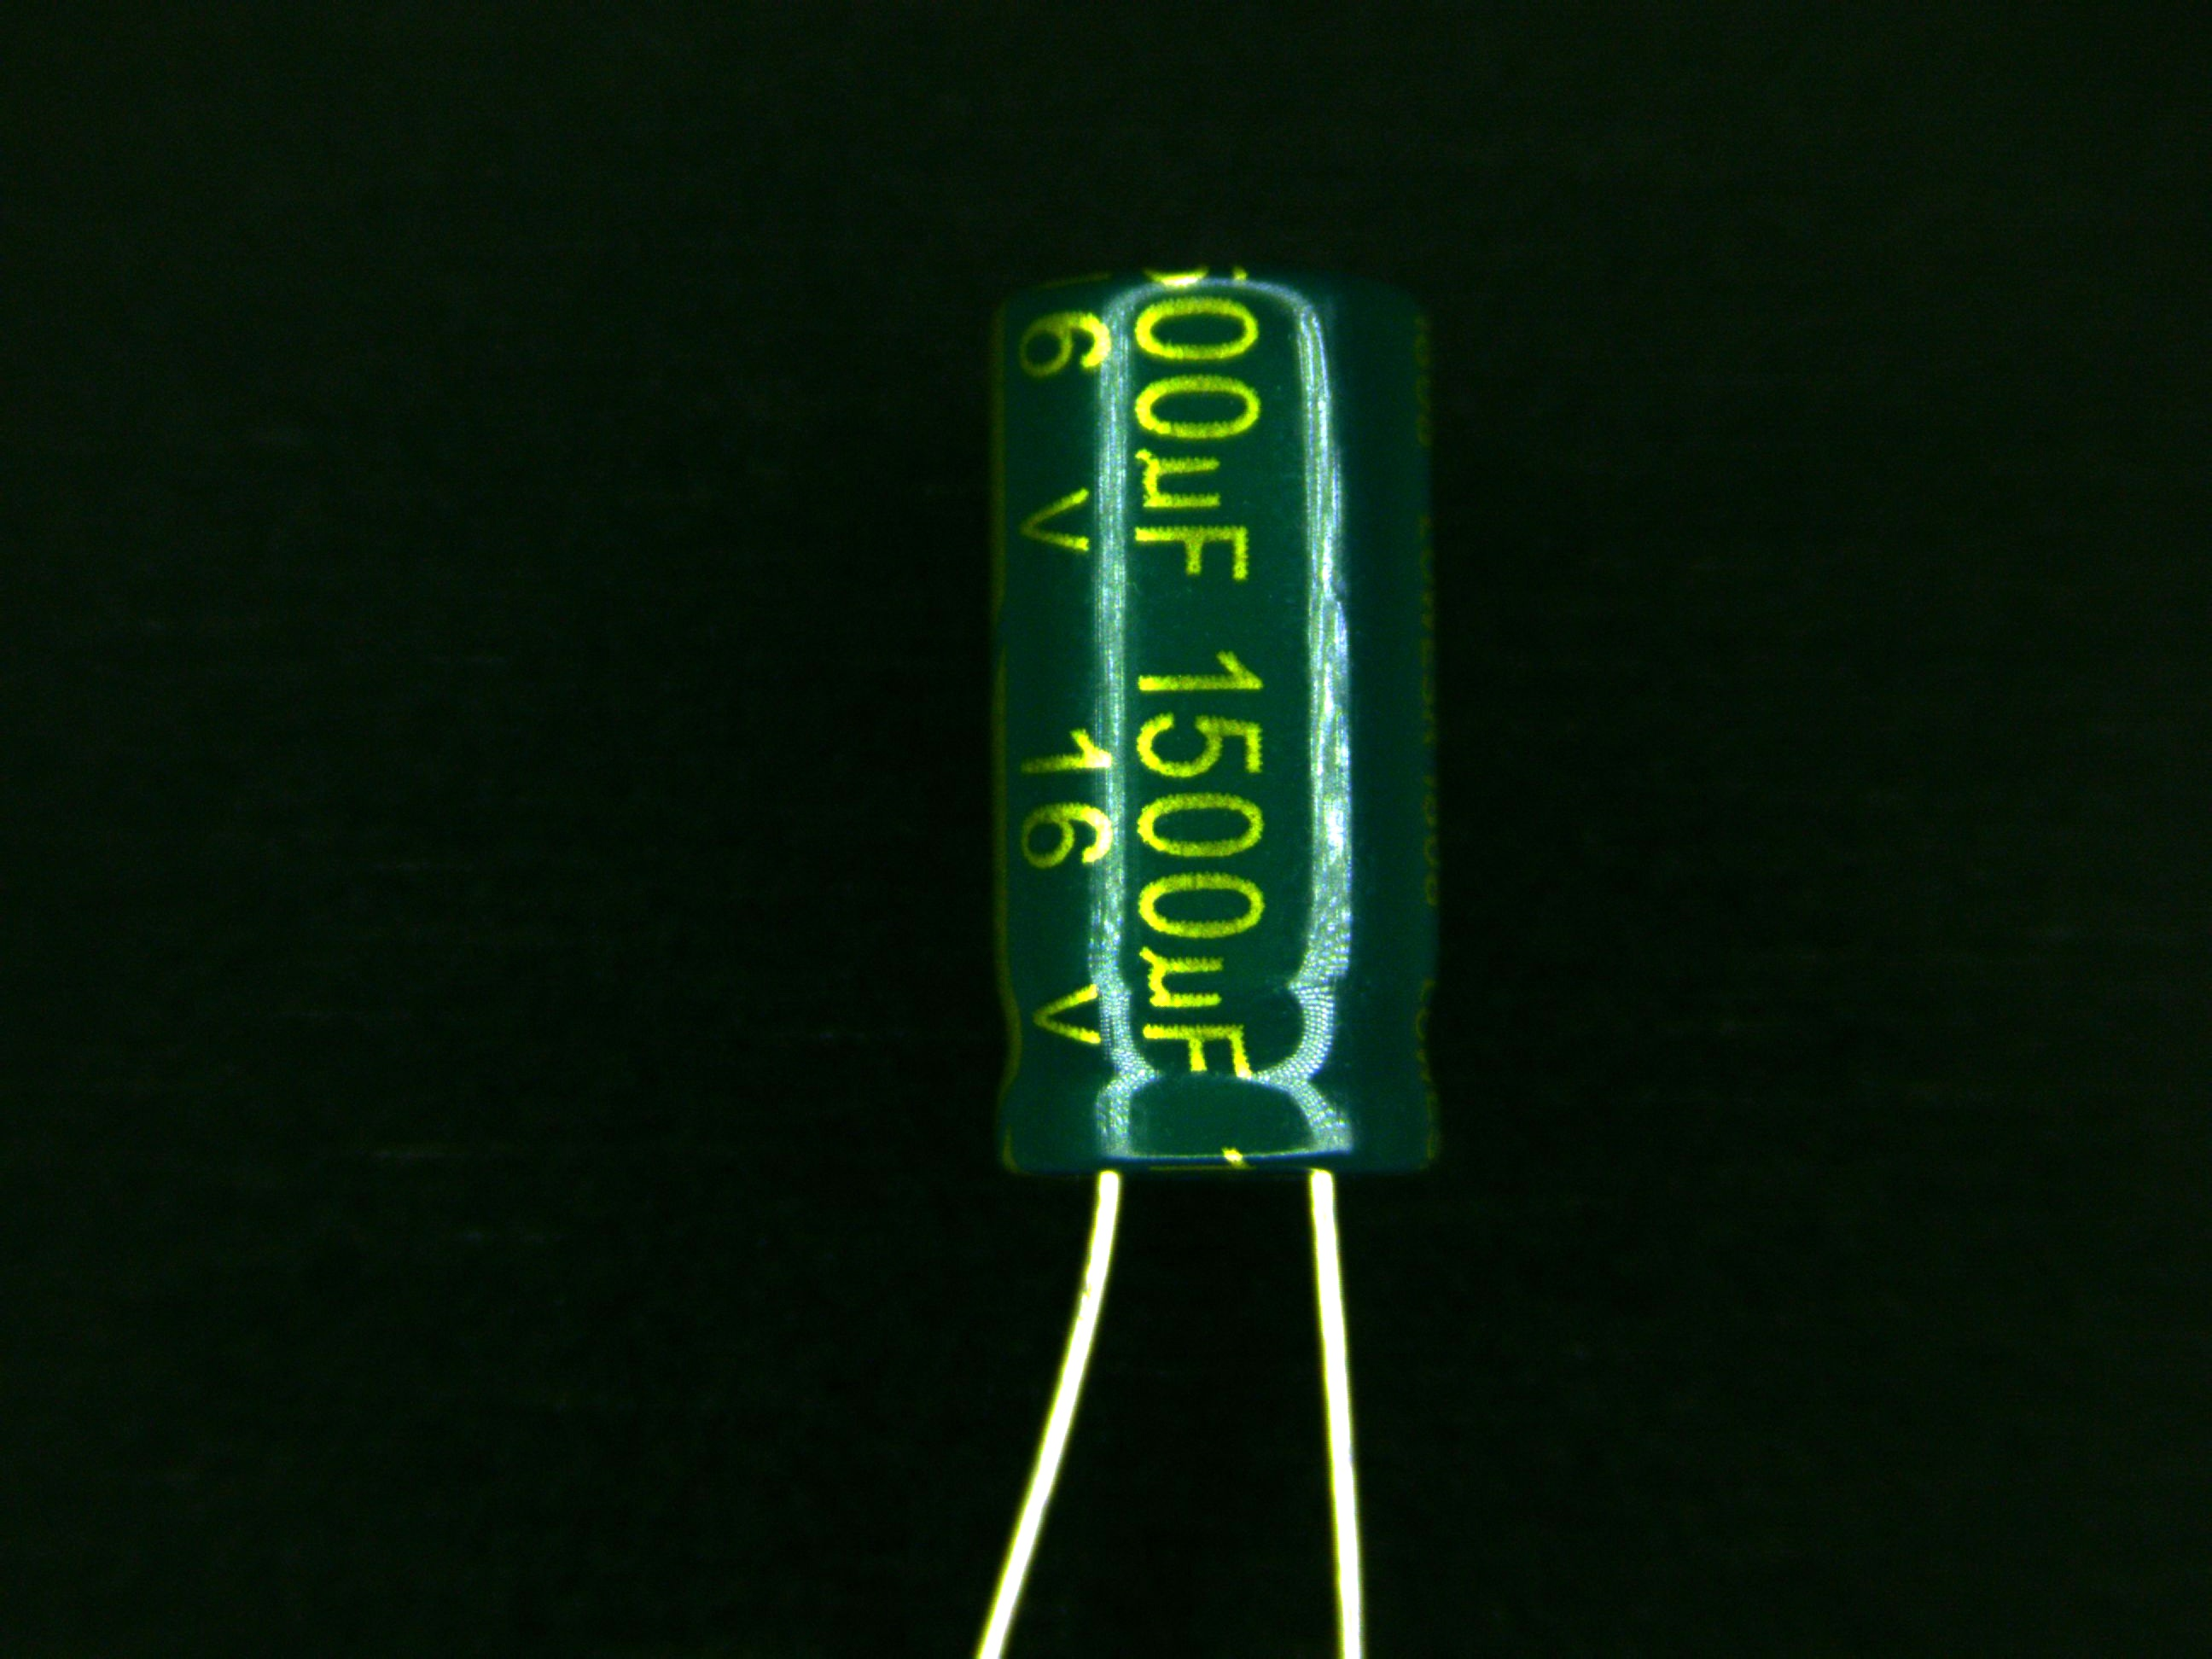c1: (977, 258, 1453, 1310)
